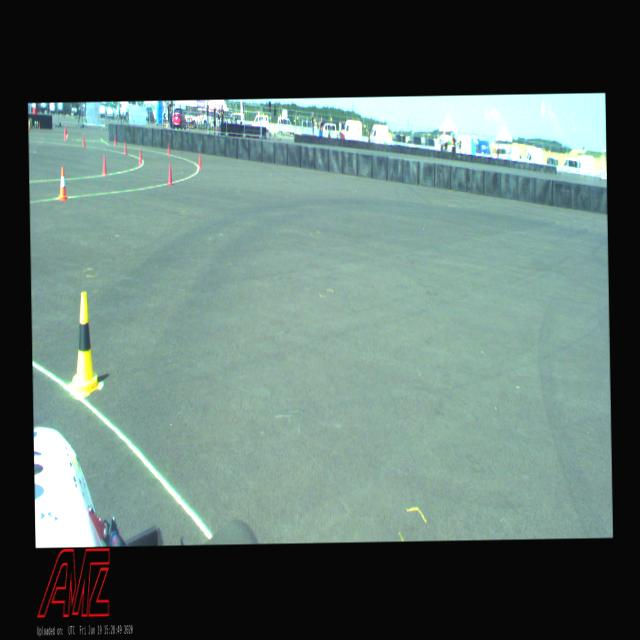orange_cone: (58, 167, 67, 200)
unknown_cone: (167, 162, 173, 184), (100, 153, 106, 174), (138, 146, 142, 164), (198, 152, 201, 168), (167, 140, 170, 154), (82, 134, 85, 146), (124, 140, 126, 154), (28, 118, 30, 130), (114, 134, 116, 145), (64, 130, 66, 140)
yellow_cone: (70, 291, 102, 395)
